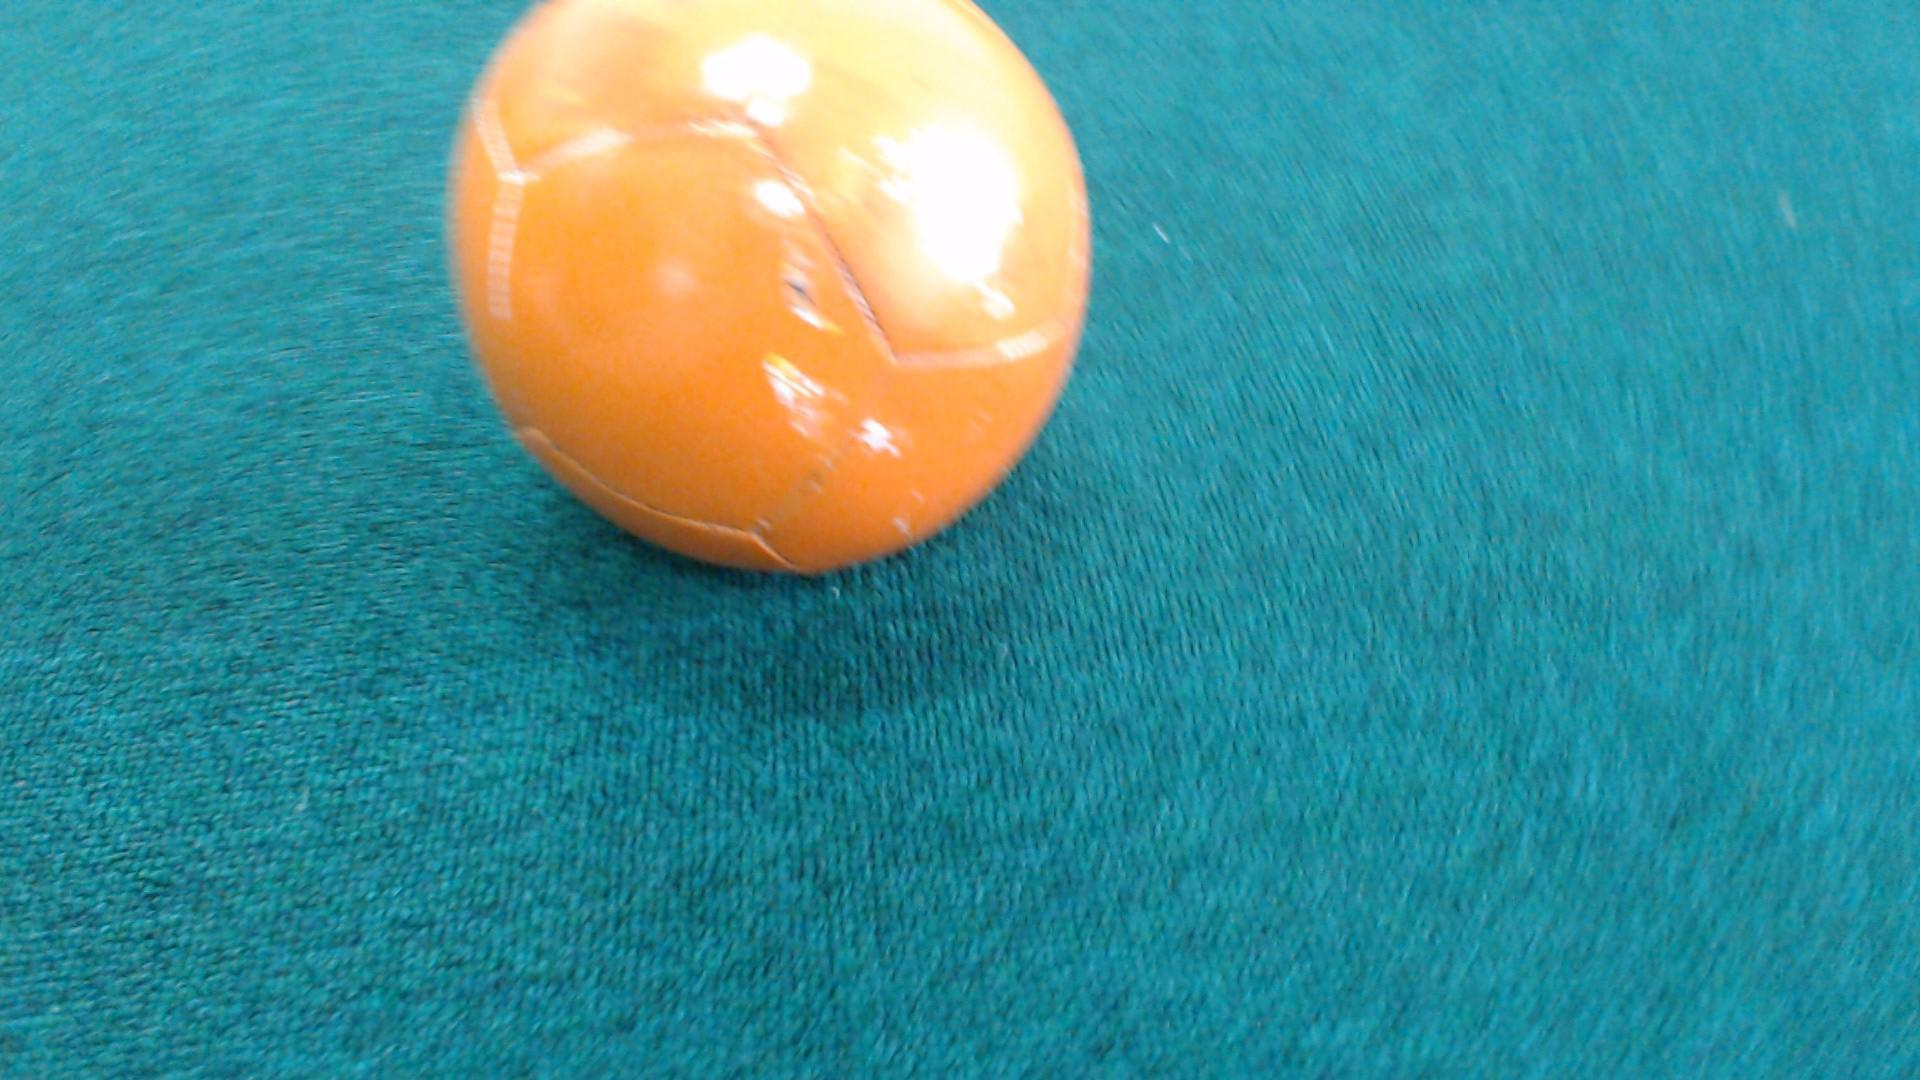bola: (411, 0, 1141, 608)
